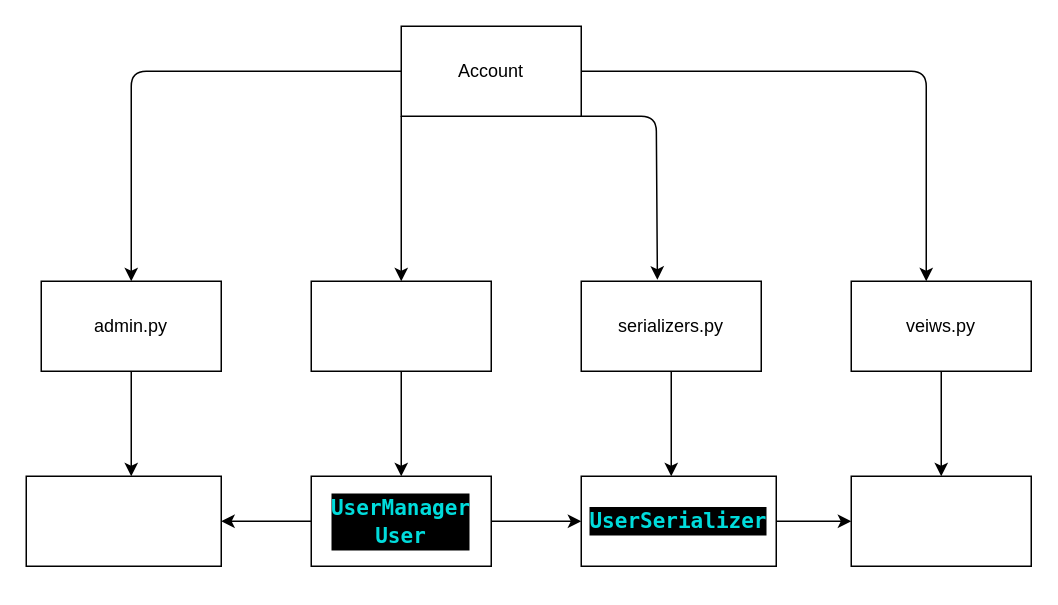
The diagram is 1058 pixels wide and 605 high, and some of its shapes have lost their labels. The centre of each missing label's shape, as x and y in pixels:
"CustomUserAdmin User" goes at pixel 123 520.
"models.py" goes at pixel 400 325.
"RegisterView LoginView LogoutView" goes at pixel 940 520.
